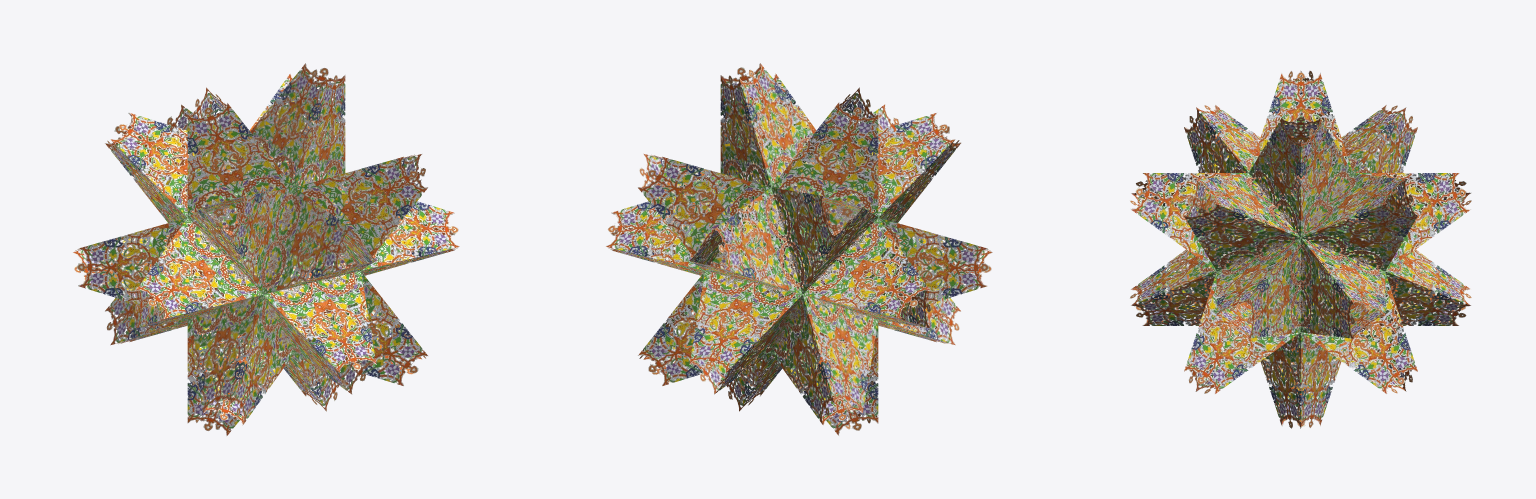
The model's file is GreatStellatedDodecahedron7.obj.
3 views of the same model, side by side, from view 1: azimuth 30°, elevation 25°; view 2: azimuth 150°, elevation 25°; view 3: azimuth 270°, elevation 25° (orthographic). The views are drawn at different scales.
Size of the model in its own units: 1 by 1 by 1.
Materials: 1 (1 with a texture image).
